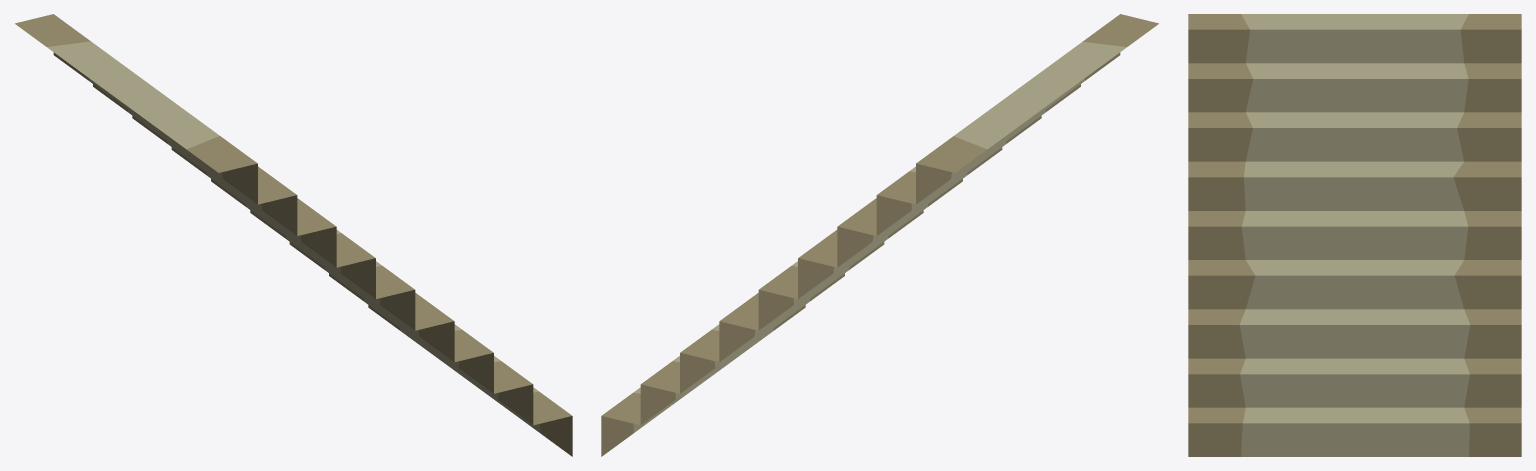
Rendered from 45s Left Stairs.fbx.
The picture shows the model from 3 angles, left to right: view 1: azimuth 30°, elevation 25°; view 2: azimuth 150°, elevation 25°; view 3: azimuth 270°, elevation 25°; orthographic projection. The views are drawn at different scales.
Visible parts, largest first — view 1: polySurface7631; view 2: polySurface7631; view 3: polySurface7631.
Part boxes in pixels (bbox=[...]): polySurface7631: bbox=[15, 14, 572, 456]; polySurface7631: bbox=[601, 14, 1158, 456]; polySurface7631: bbox=[1188, 14, 1521, 456].
Size of the model in its own units: 100 by 100 by 100.
